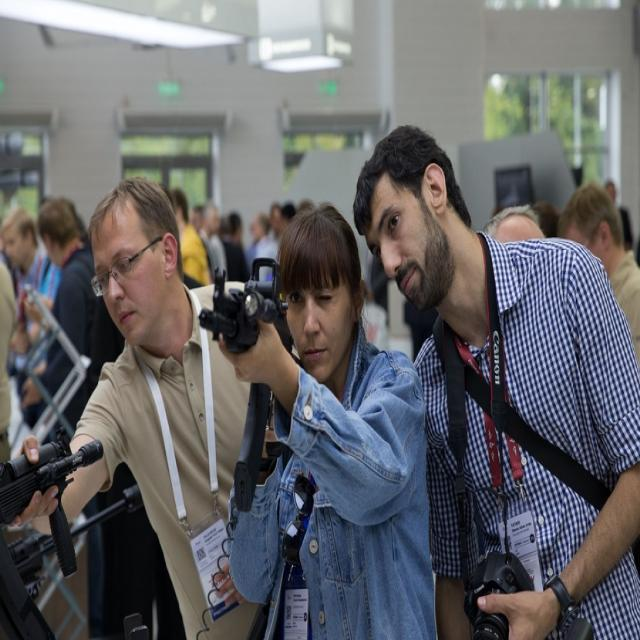firearm: (200, 256, 286, 508), (0, 434, 103, 640), (0, 484, 144, 580)
